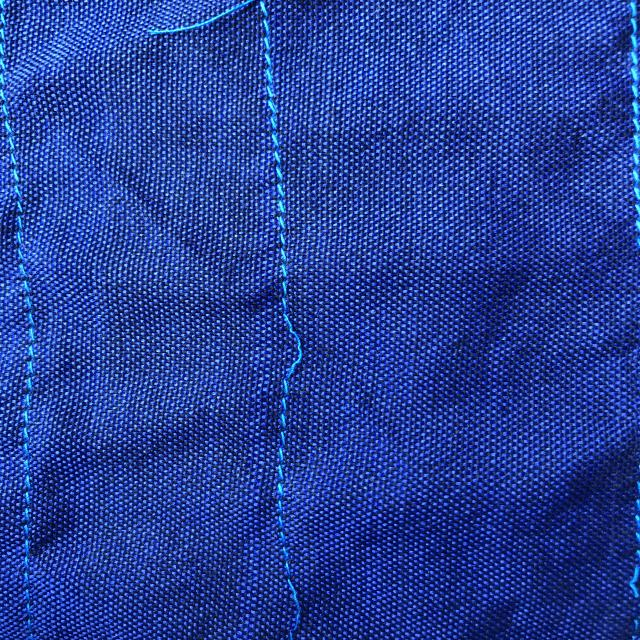skip: (260, 291, 326, 388), (254, 560, 322, 637)
